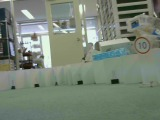speed_10: (133, 35, 152, 55)
